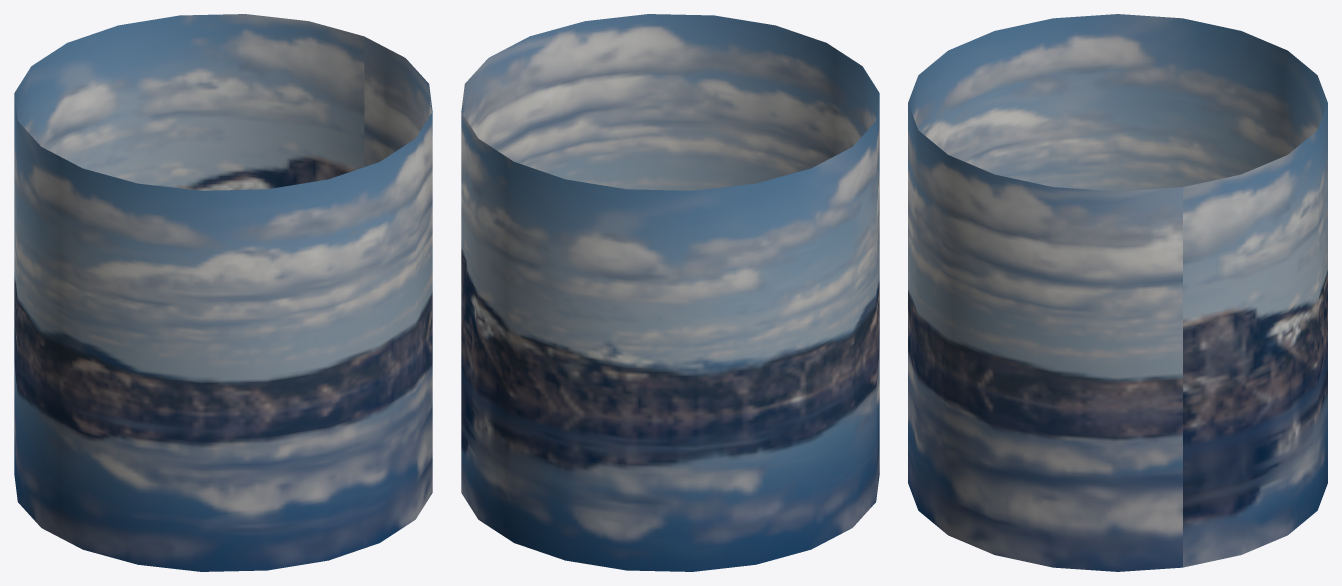
File: SB_Cilindro1.fbx
3 views of the same model, side by side, from view 1: azimuth 30°, elevation 25°; view 2: azimuth 150°, elevation 25°; view 3: azimuth 270°, elevation 25° (orthographic).
Visible parts, largest first — view 1: pCylinder1; view 2: pCylinder1; view 3: pCylinder1.
Boxes of the visible parts, x1,y1,x2,y2 form: pCylinder1: [14, 14, 432, 571]; pCylinder1: [461, 14, 879, 571]; pCylinder1: [908, 14, 1327, 571].
Bounding box in the file's own units: 2 × 2 × 2.
Materials: 1 (1 with a texture image).
